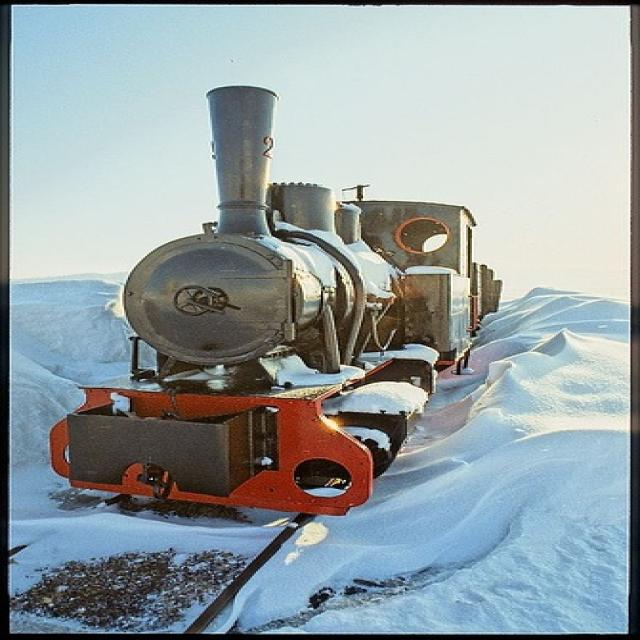train: (42, 83, 508, 516)
